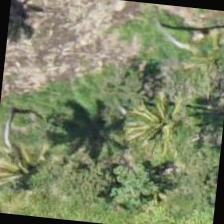Kelapa_Sawit: (115, 68, 214, 167), (0, 72, 56, 168)
